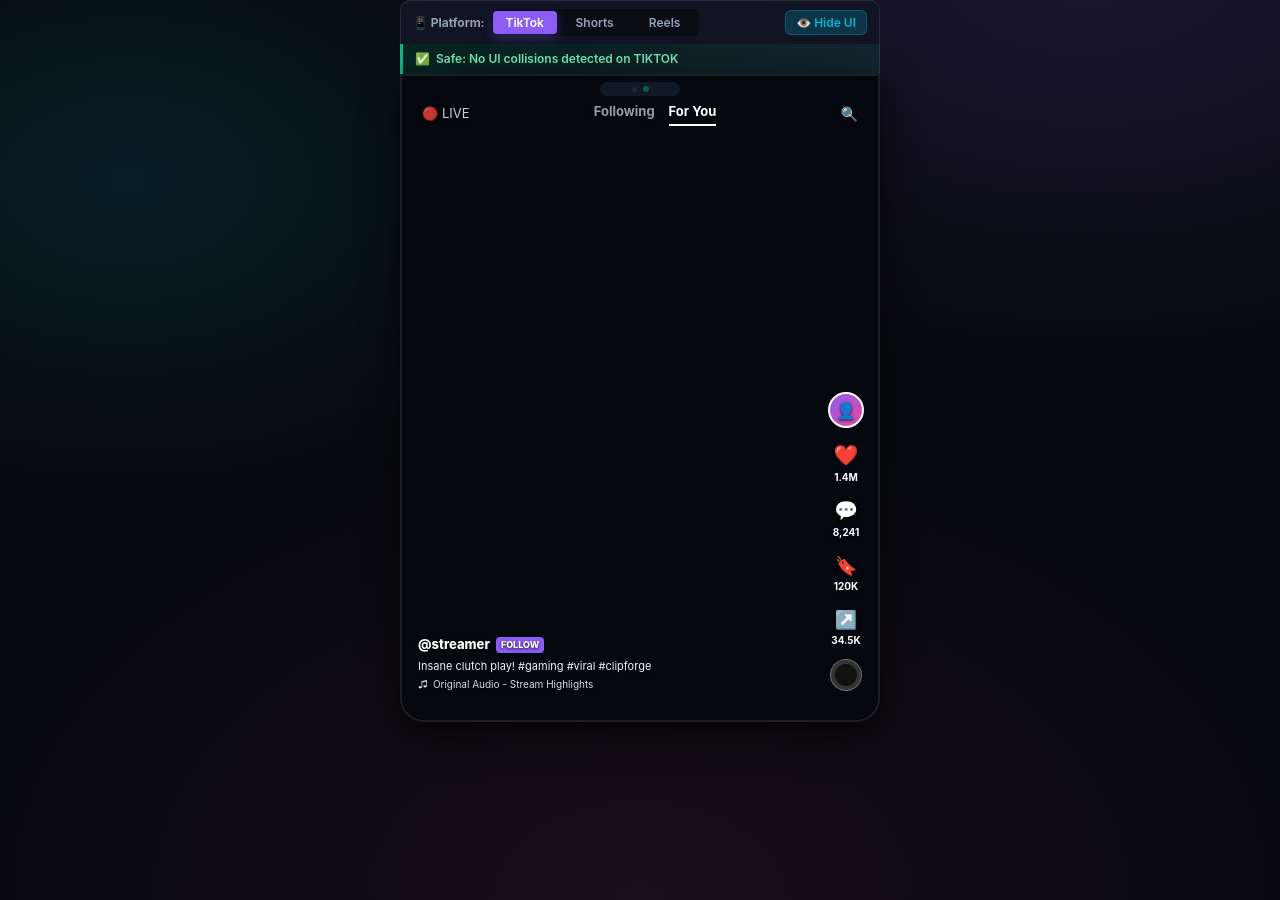
Test: Milestone M4: Montage Timeline & Phone Platform Simulator › PhoneSimulator Component › toggles between TikTok, YouTube Shorts, and Instagram Reels overlays
expect the element with test id "top-tabs-tiktok" is shown: met, box top-left (414, 102), bottom-right (866, 126)
expect the element with test id "action-rail-tiktok" is shown: met, box top-left (826, 386), bottom-right (866, 696)
// Switch to YouTube Shorts
Click the button with test id "platform-tab-shorts".
click(595, 22)  # box top-left (563, 11), bottom-right (627, 34)
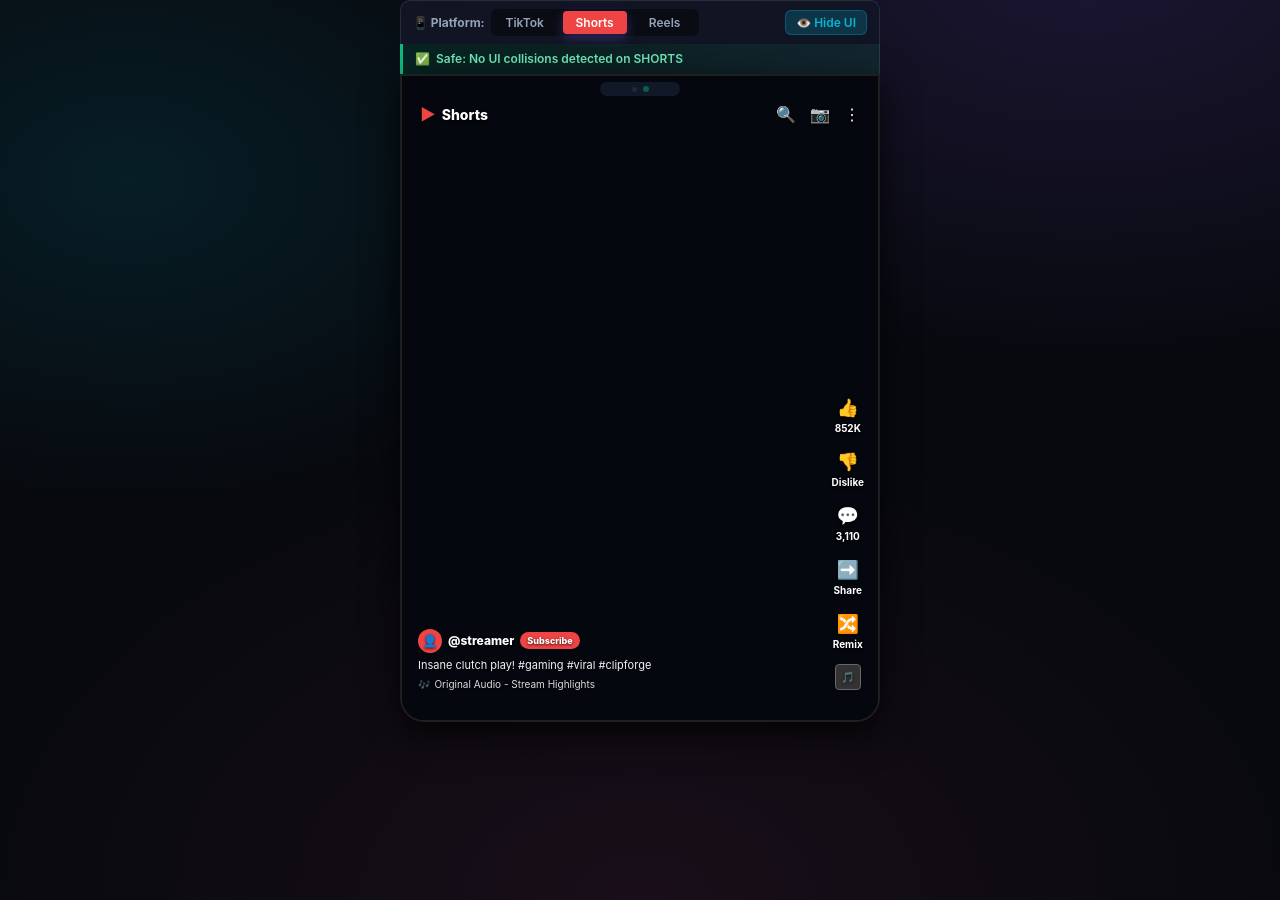
expect the element with test id "top-nav-shorts" is shown: met, box top-left (414, 102), bottom-right (866, 126)
expect the element with test id "action-rail-shorts" is shown: met, box top-left (830, 388), bottom-right (866, 696)
expect the element with test id "bottom-meta-shorts" is shown: met, box top-left (418, 629), bottom-right (651, 690)
// Switch to Instagram Reels
Click the button with test id "platform-tab-reels".
click(665, 22)  # box top-left (633, 11), bottom-right (697, 34)
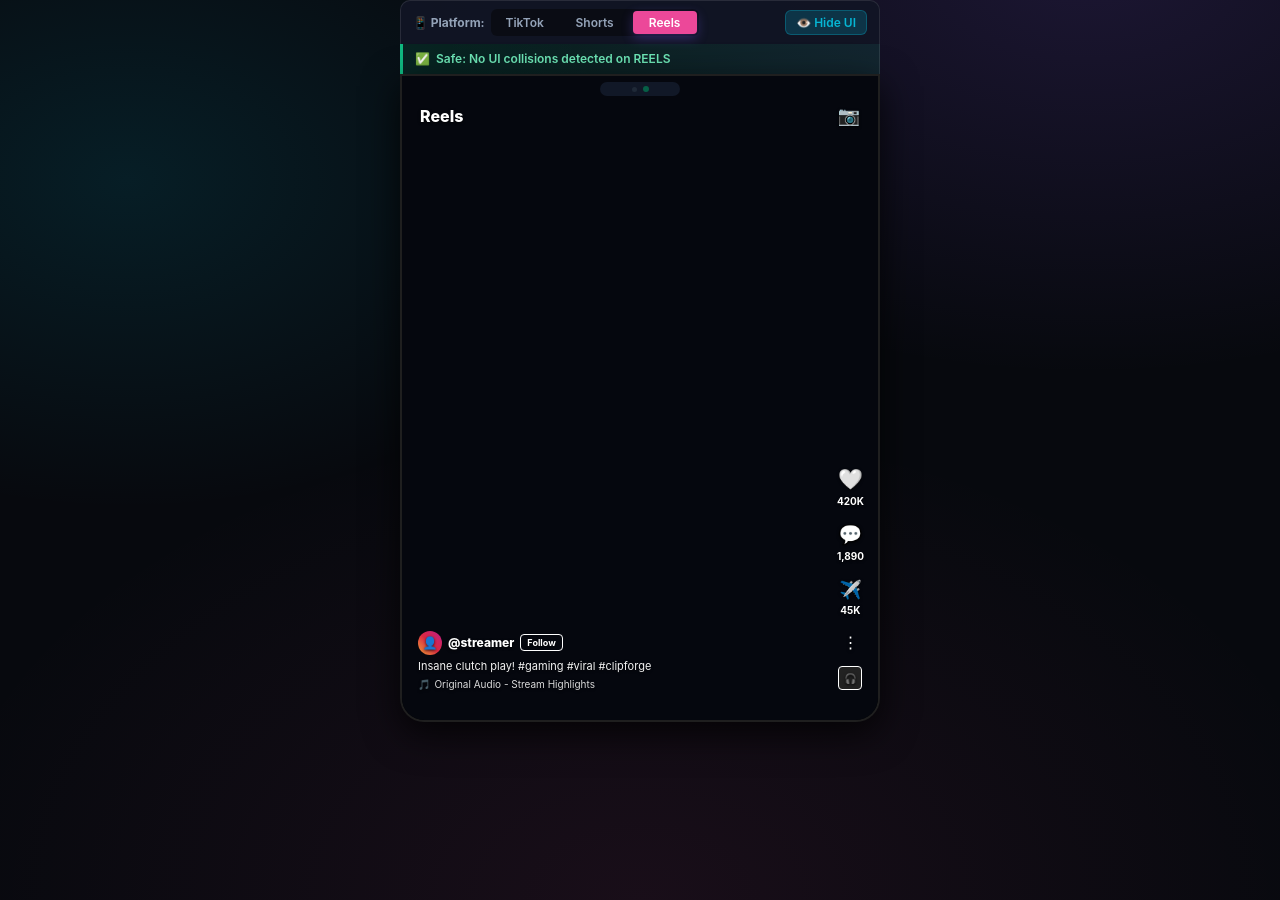
expect the element with test id "top-nav-reels" is shown: met, box top-left (414, 102), bottom-right (866, 129)
expect the element with test id "action-rail-reels" is shown: met, box top-left (835, 458), bottom-right (866, 696)
expect the element with test id "bottom-meta-reels" is shown: met, box top-left (418, 631), bottom-right (651, 690)
// Switch back to TikTok
Click the button with test id "platform-tab-tiktok".
click(525, 22)  # box top-left (493, 11), bottom-right (557, 34)
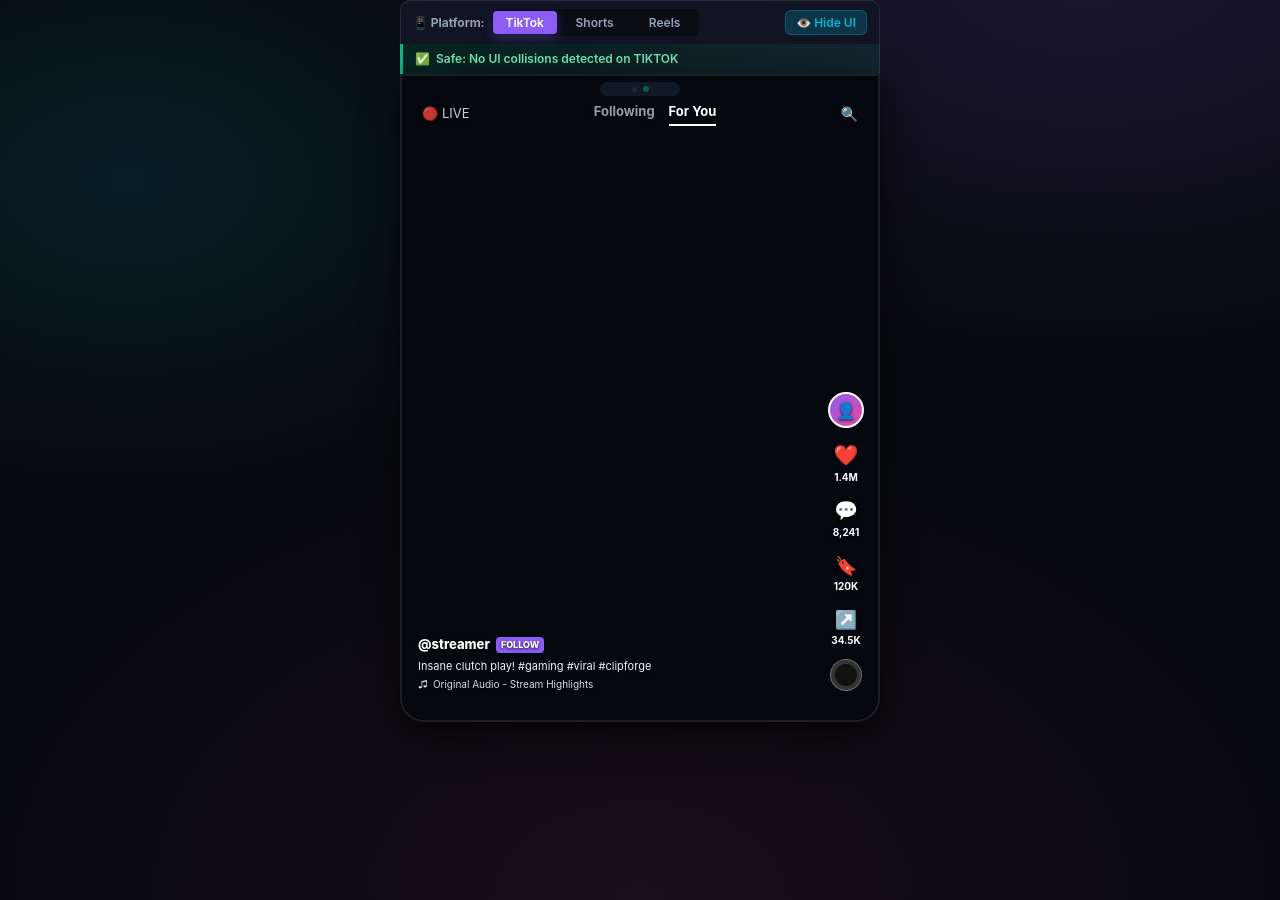
expect the element with test id "top-tabs-tiktok" is shown: met, box top-left (414, 102), bottom-right (866, 126)
